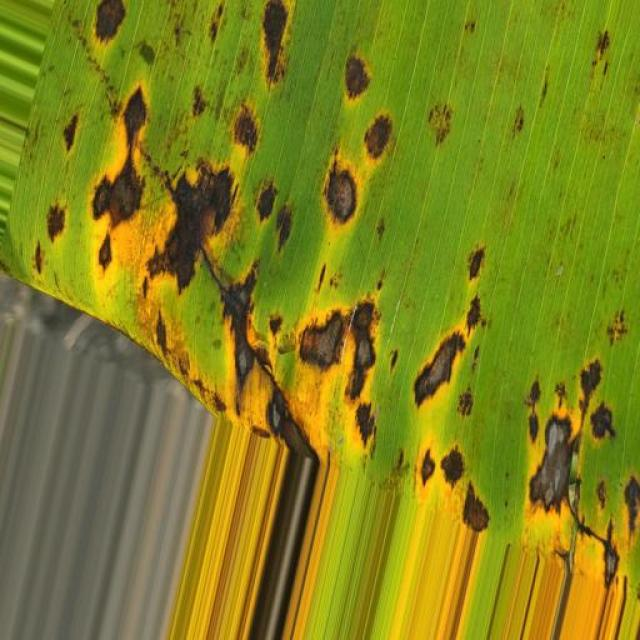Early_rust: (25, 0, 640, 583)
